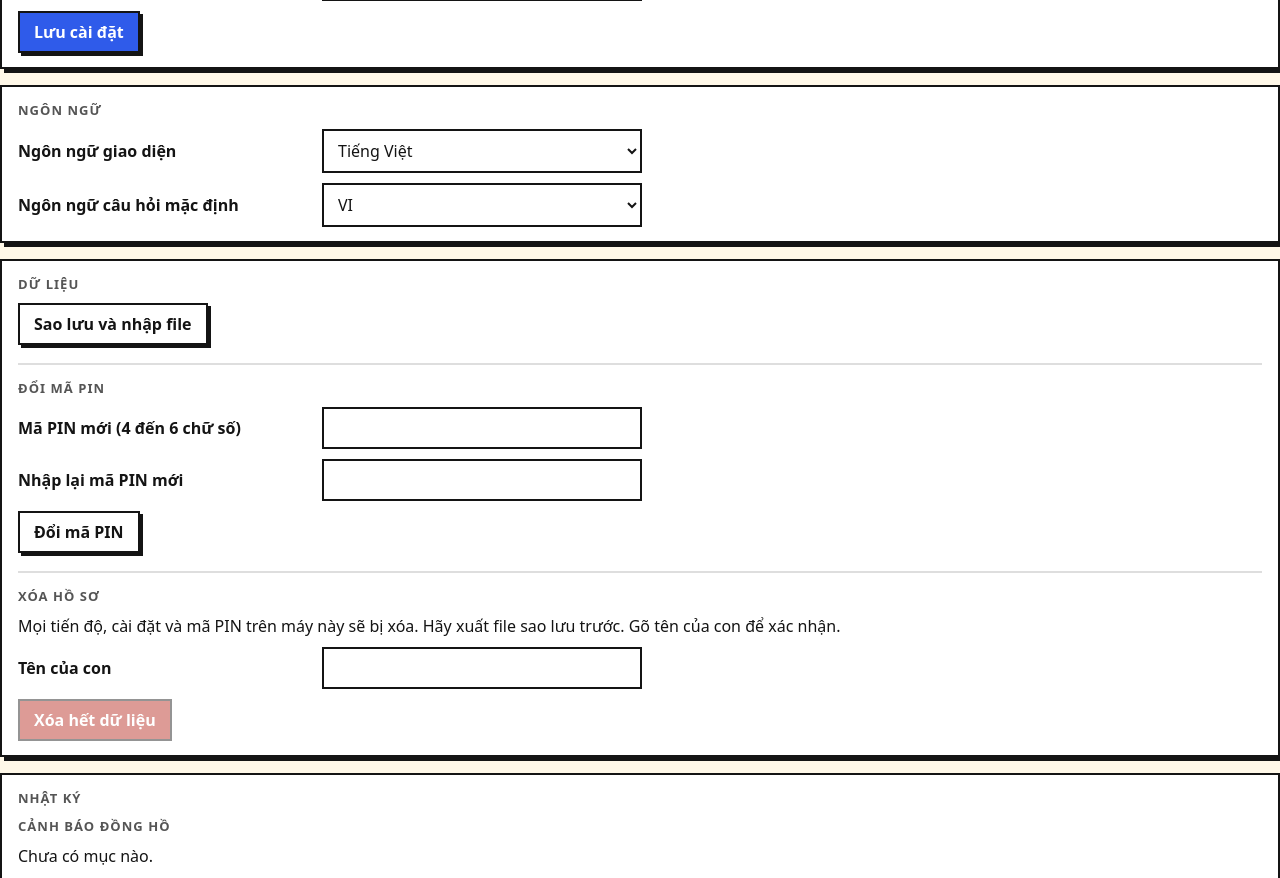
Test case: ParentSettings › changes the PIN without marking a reset
(page scrolled)
In the password field labelled "Mã PIN mới (4 đến 6 chữ số)": {"x": 482, "y": 428} [322,407,642,449], type "2468"
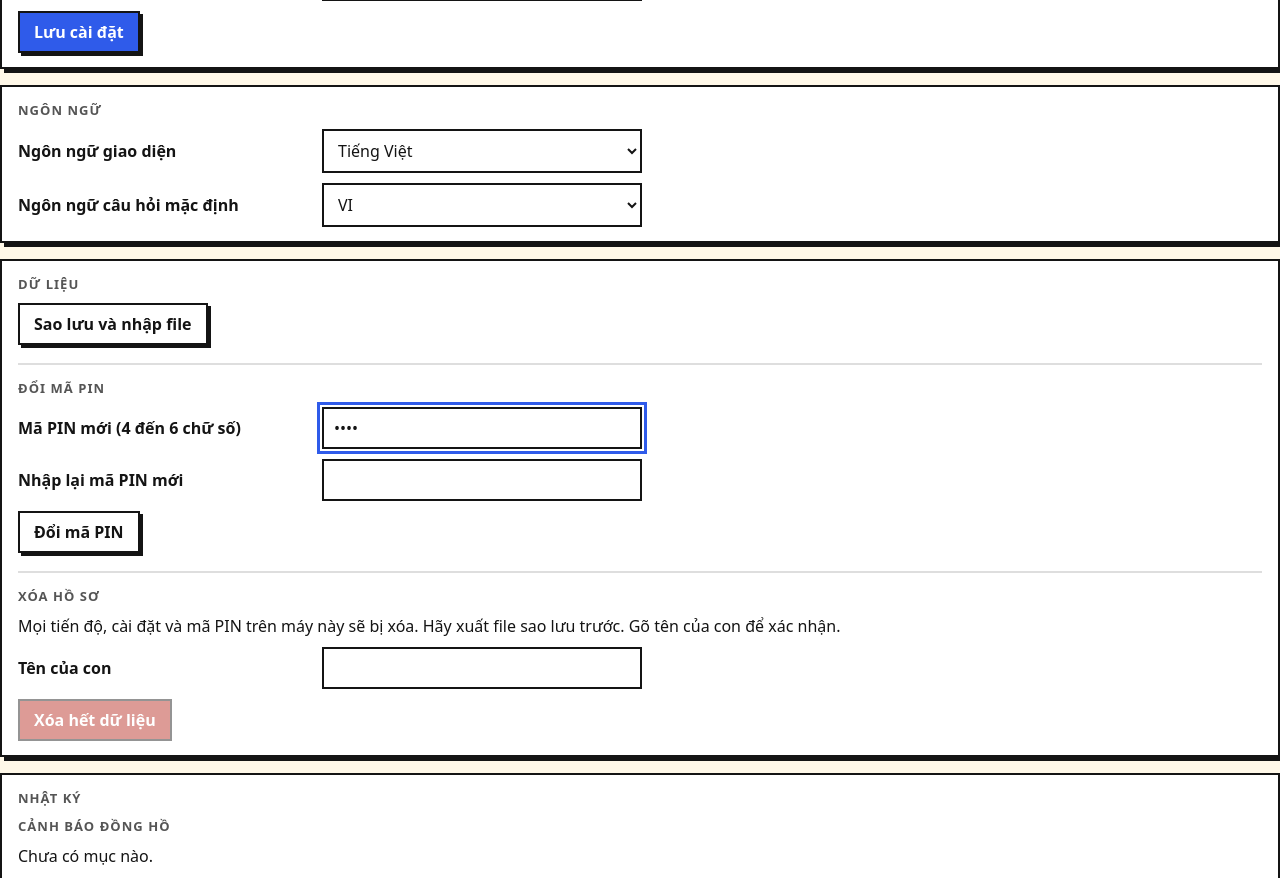
In the password field labelled "Nhập lại mã PIN mới": {"x": 482, "y": 480} [322,459,642,501], type "2468"
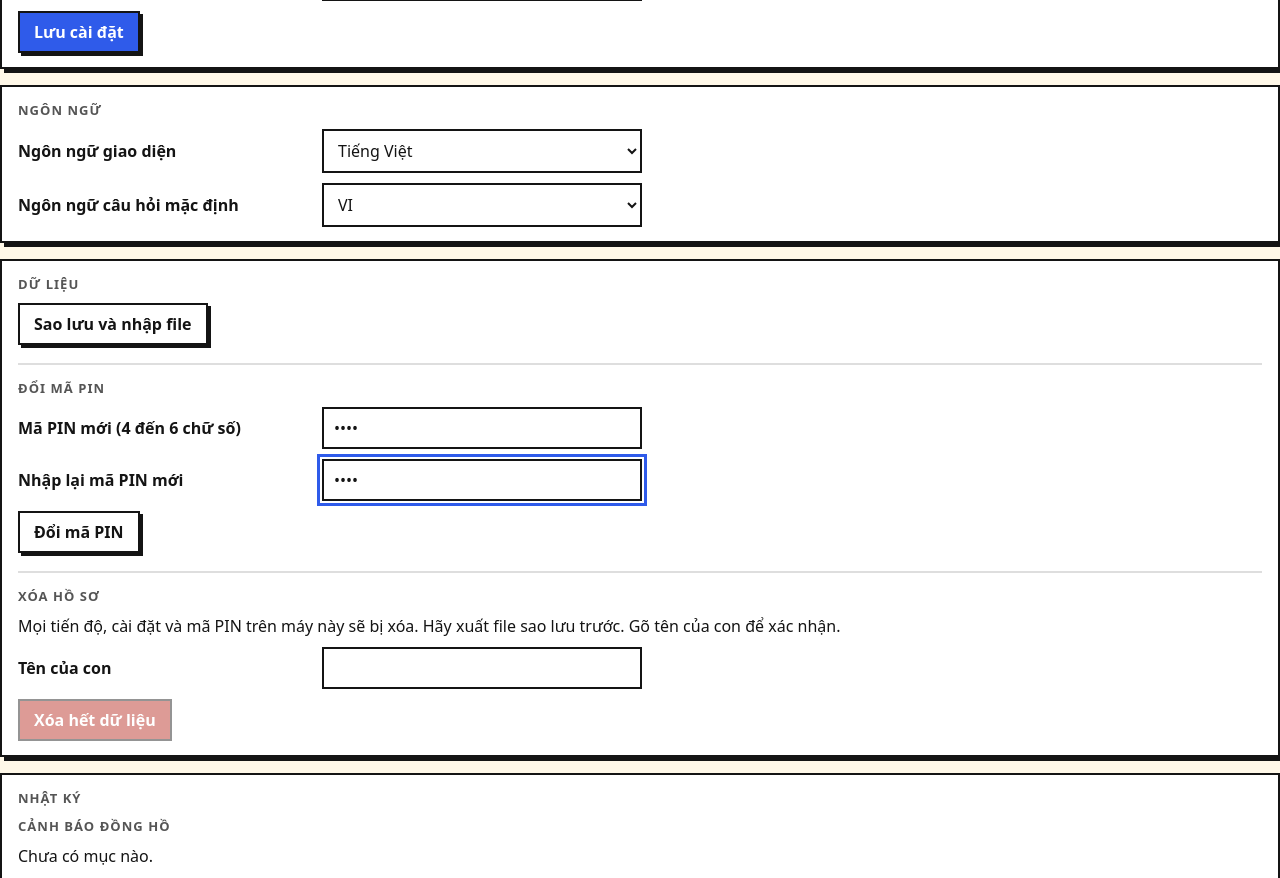
Click the button "Đổi mã PIN": {"x": 79, "y": 532} [18,511,140,553]
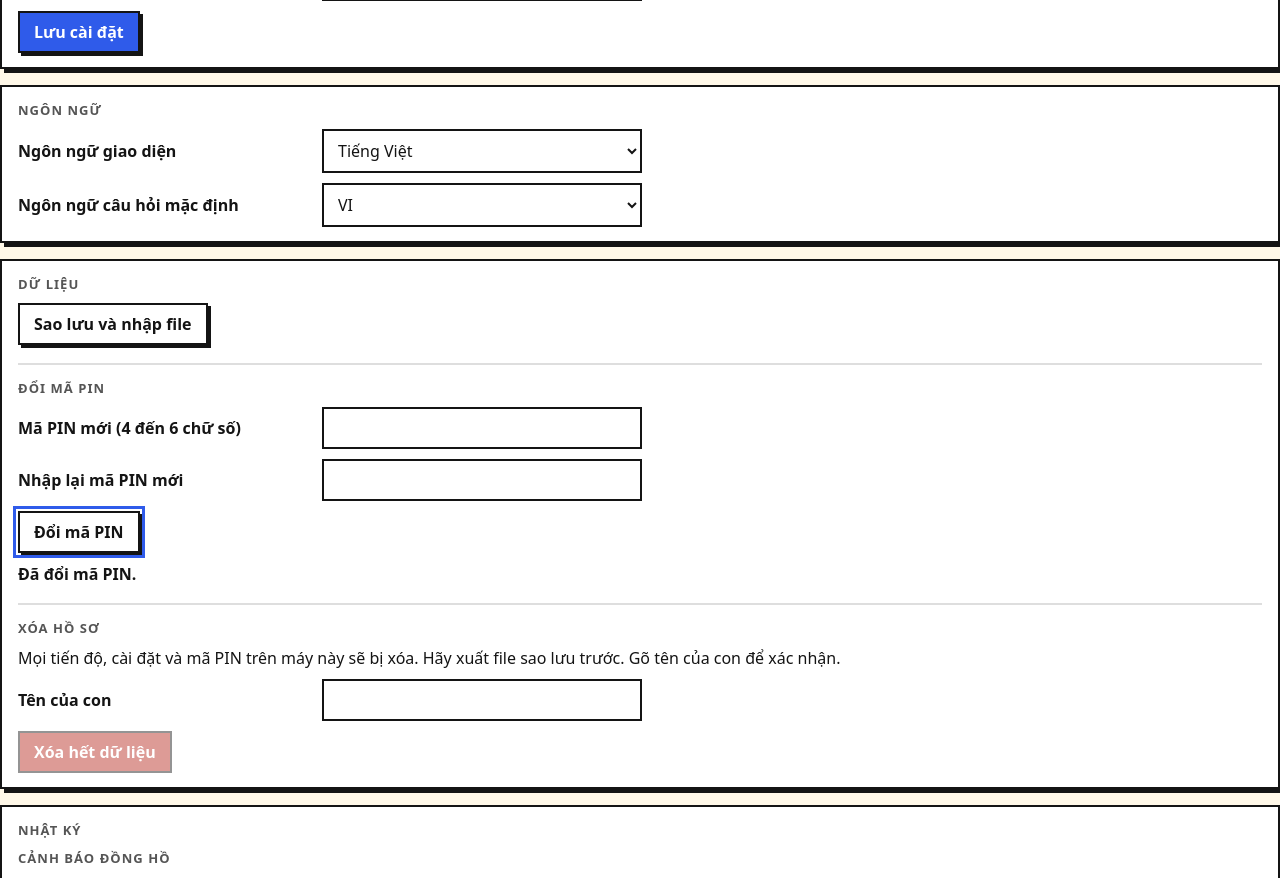
Expected: the text "Đã đổi mã PIN." is shown, [18,563,136,585]
